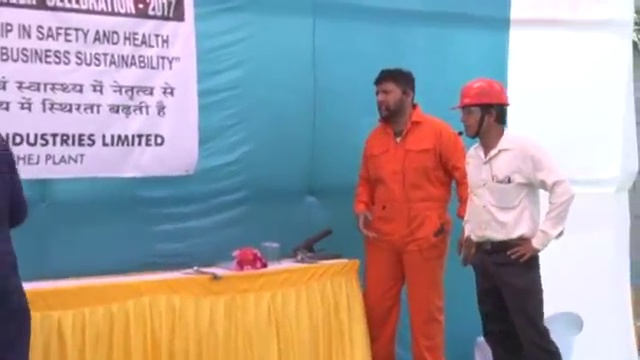helmet: (449, 77, 512, 110)
helmet_off: (374, 68, 416, 122)
helmet_on: (447, 74, 512, 141)
person: (450, 75, 579, 360), (355, 67, 468, 360)
